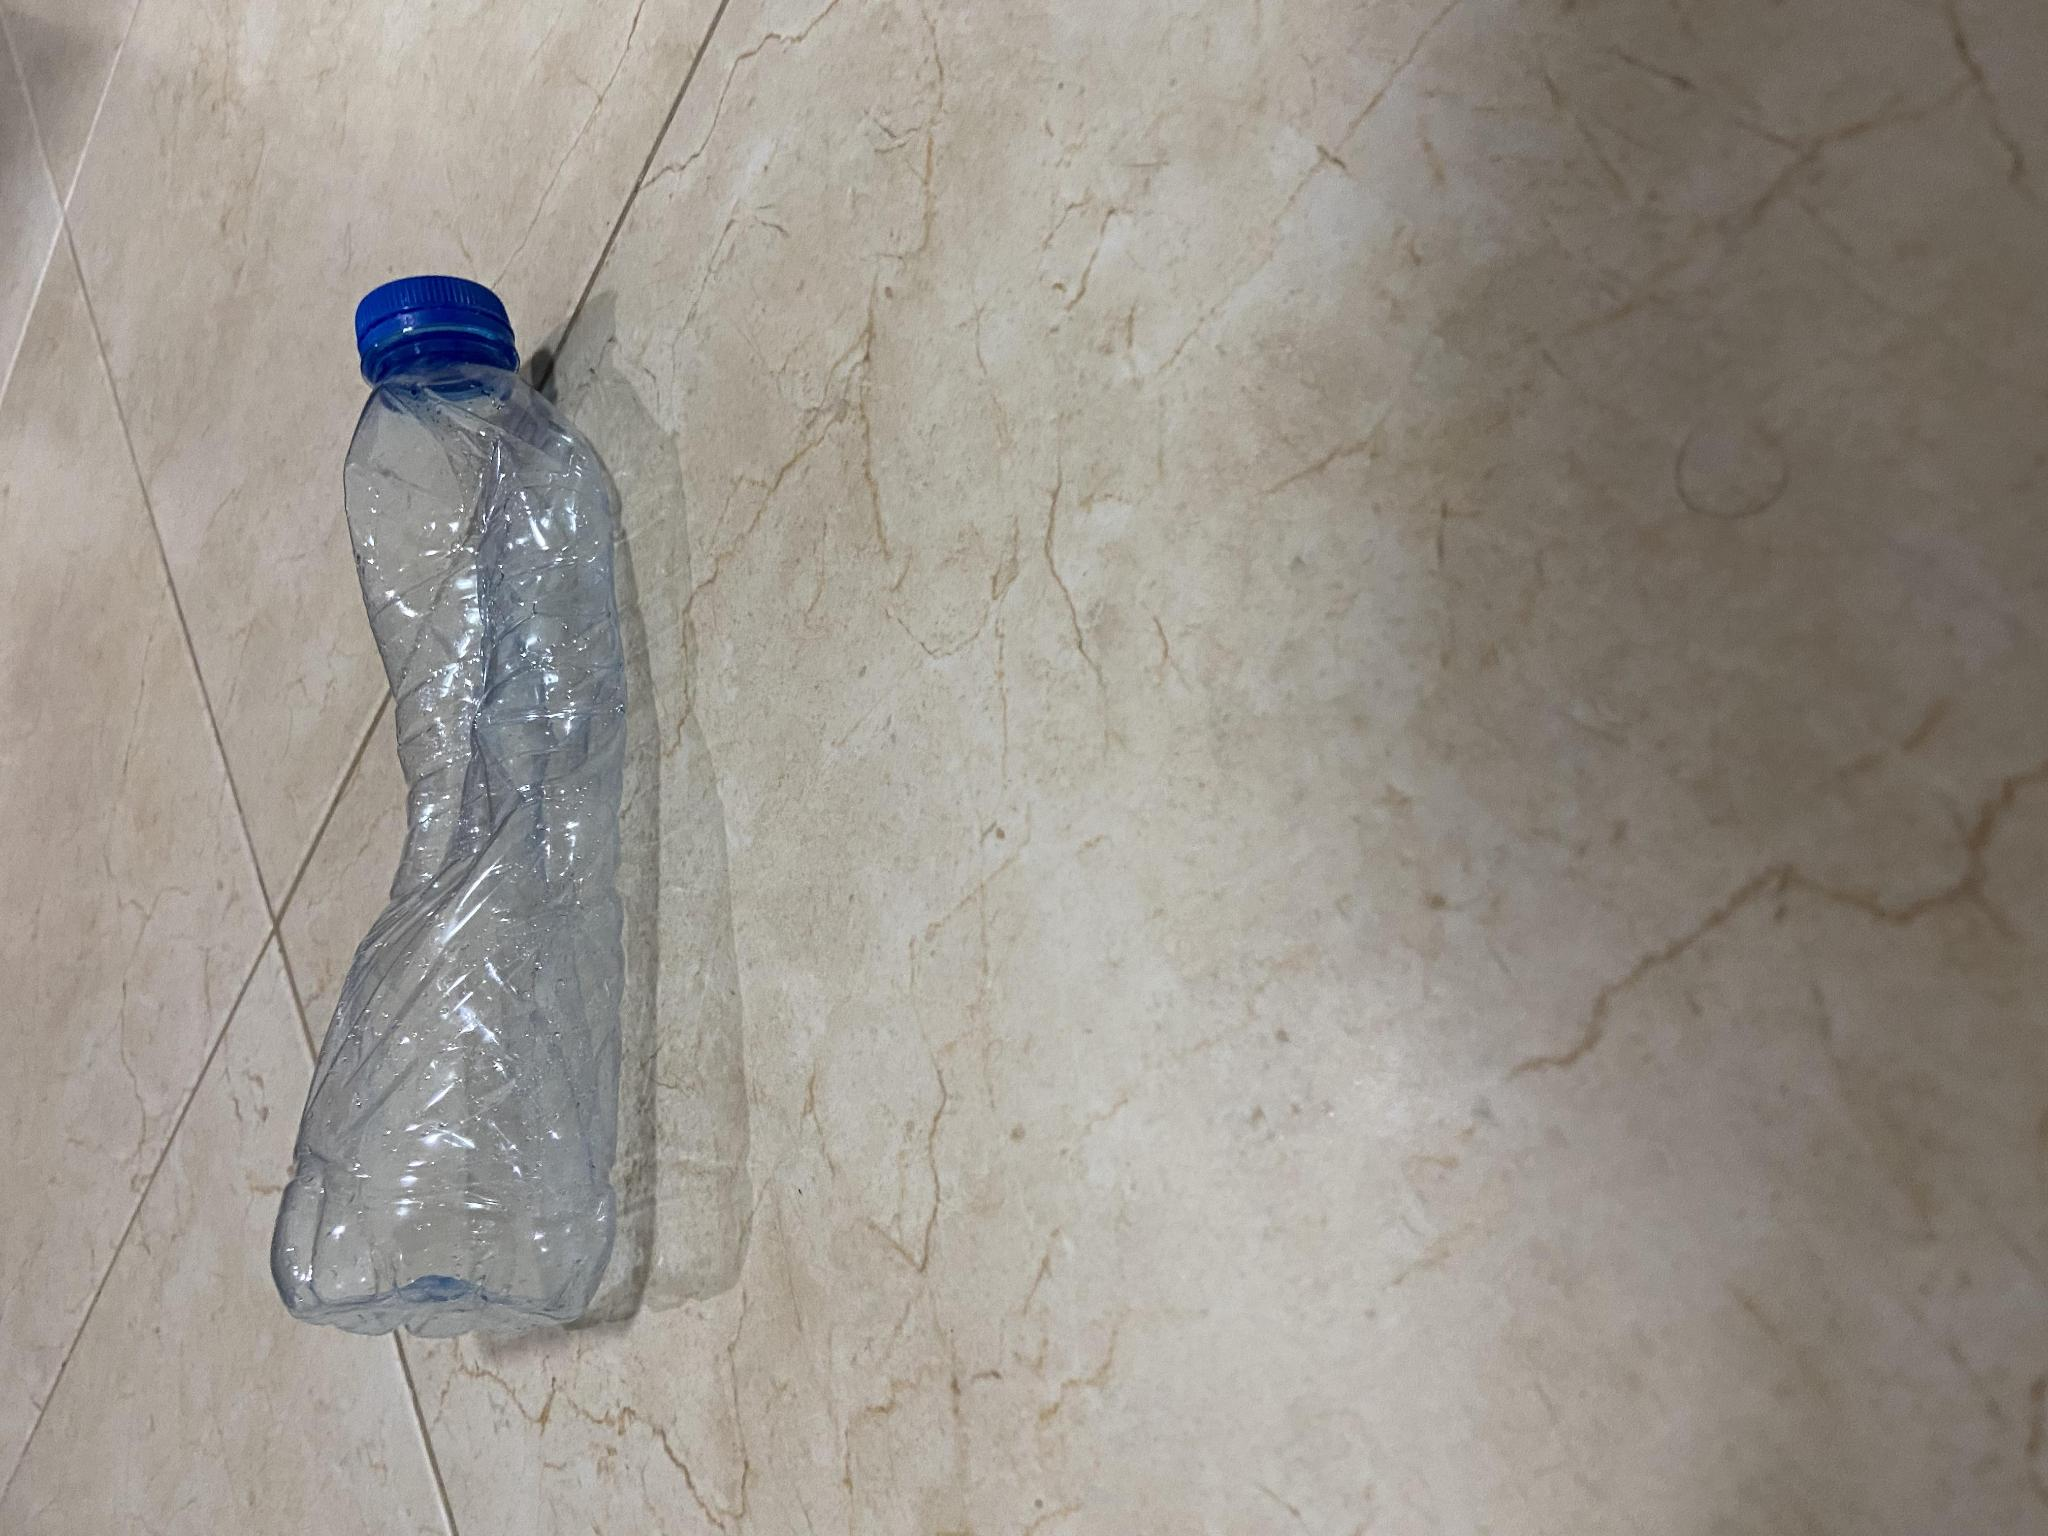bottle: (266, 273, 645, 1349)
